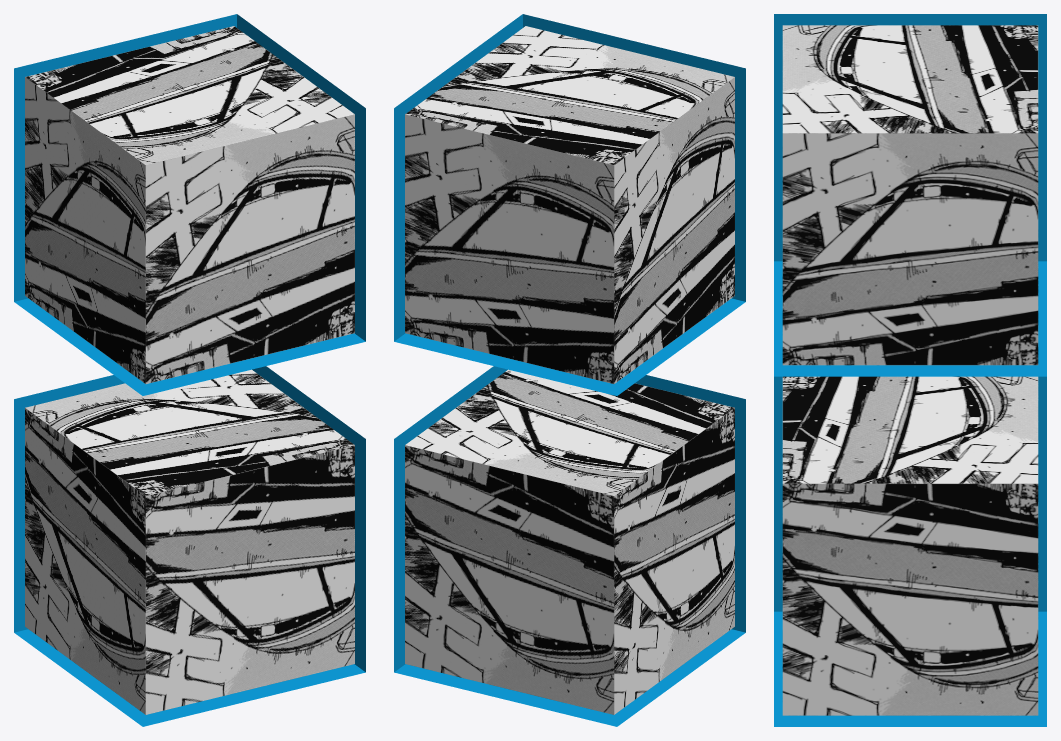
The model's file is ICON_UV.glb.
The picture shows the model from 3 angles, left to right: view 1: azimuth 30°, elevation 25°; view 2: azimuth 150°, elevation 25°; view 3: azimuth 270°, elevation 25°; orthographic projection. The views are drawn at different scales.
Visible parts, largest first — view 1: ICON_UV, obj7, obj3, obj12; view 2: ICON_UV, obj7, obj3, obj12; view 3: ICON_UV, obj7, obj3, obj12.
Part boxes in pixels (left/top/right/bottom): ICON_UV: left=25, top=26, right=354, bottom=383; obj7: left=25, top=369, right=354, bottom=714; obj3: left=14, top=14, right=365, bottom=395; obj12: left=14, top=366, right=365, bottom=726; ICON_UV: left=405, top=26, right=734, bottom=383; obj7: left=405, top=369, right=734, bottom=714; obj3: left=394, top=14, right=745, bottom=395; obj12: left=394, top=366, right=745, bottom=726; ICON_UV: left=782, top=25, right=1038, bottom=365; obj7: left=782, top=376, right=1038, bottom=715; obj3: left=774, top=14, right=1046, bottom=376; obj12: left=774, top=376, right=1046, bottom=726.
Bounding box in the file's own units: 2.4 × 5.8 × 2.4.
Materials: 10 (10 with a texture image).
